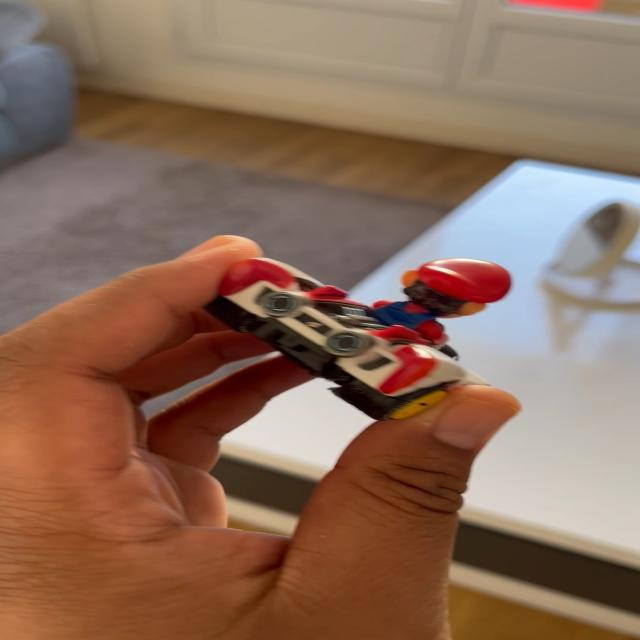mario: (204, 238, 522, 422)
